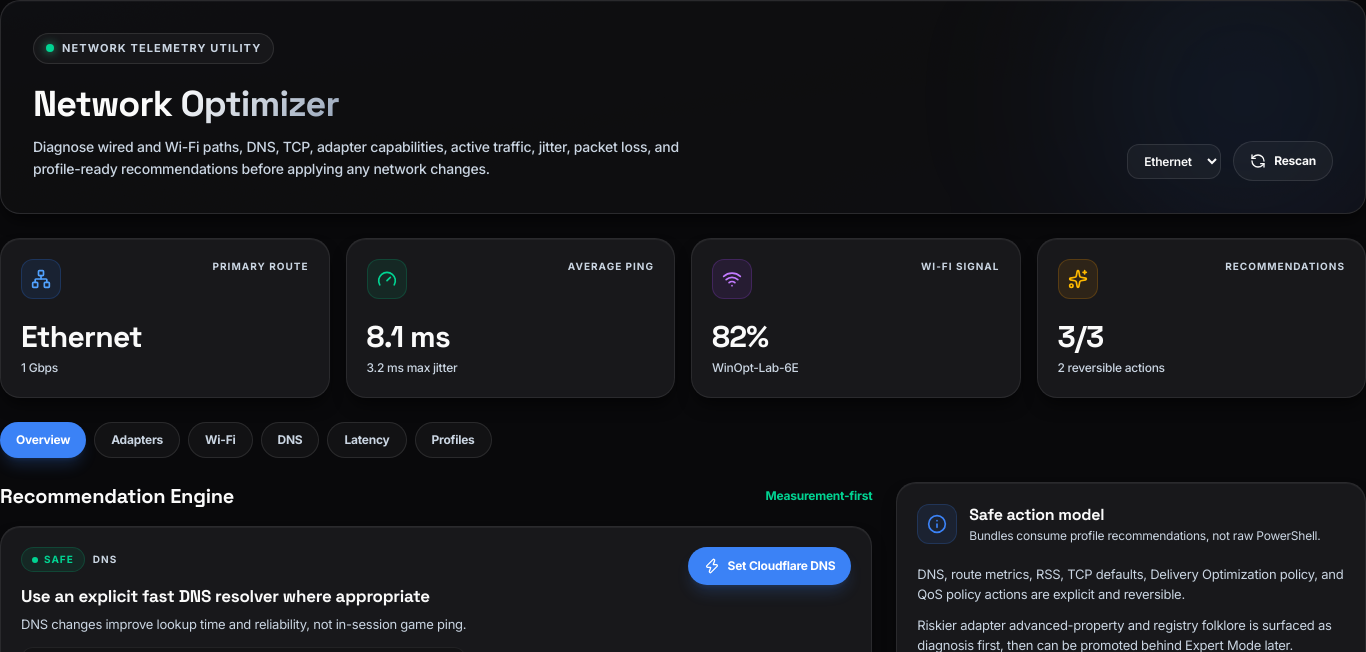
NetworkOptimizerPage › shows Wi-Fi, DNS, latency, and profile tabs
expect the heading "Network Optimizer" is shown: met, box [33,80,339,126]
What coordinates should you click on to do the following:
click the button "Wi-Fi"
I would click on:
 (220, 440)
Its box is [188,422,252,458].
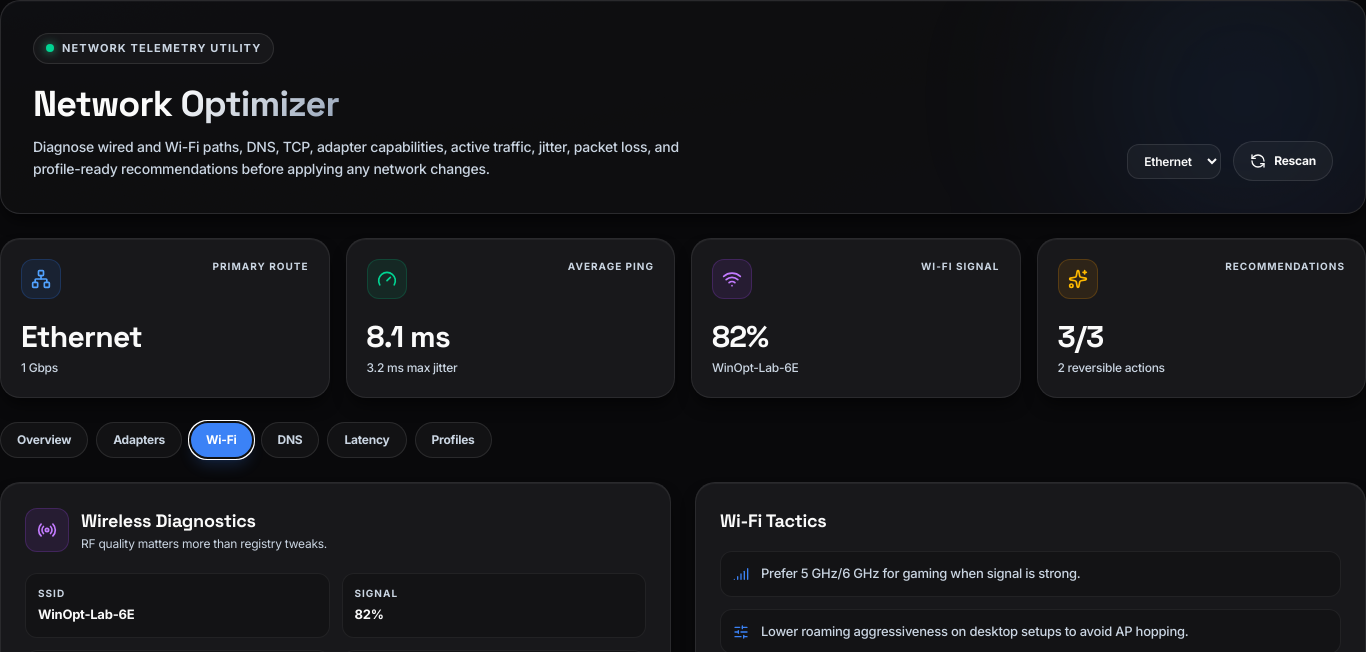
expect the text "WinOpt-Lab-6E" below "Wi-Fi signal" is shown: met, box [712,360,798,375]
expect the heading "Wireless Diagnostics" is shown: met, box [81,509,256,532]
What coordinates should you click on to do the following:
click the button "DNS"
I would click on:
 (290, 440)
Its box is [260,422,320,458].
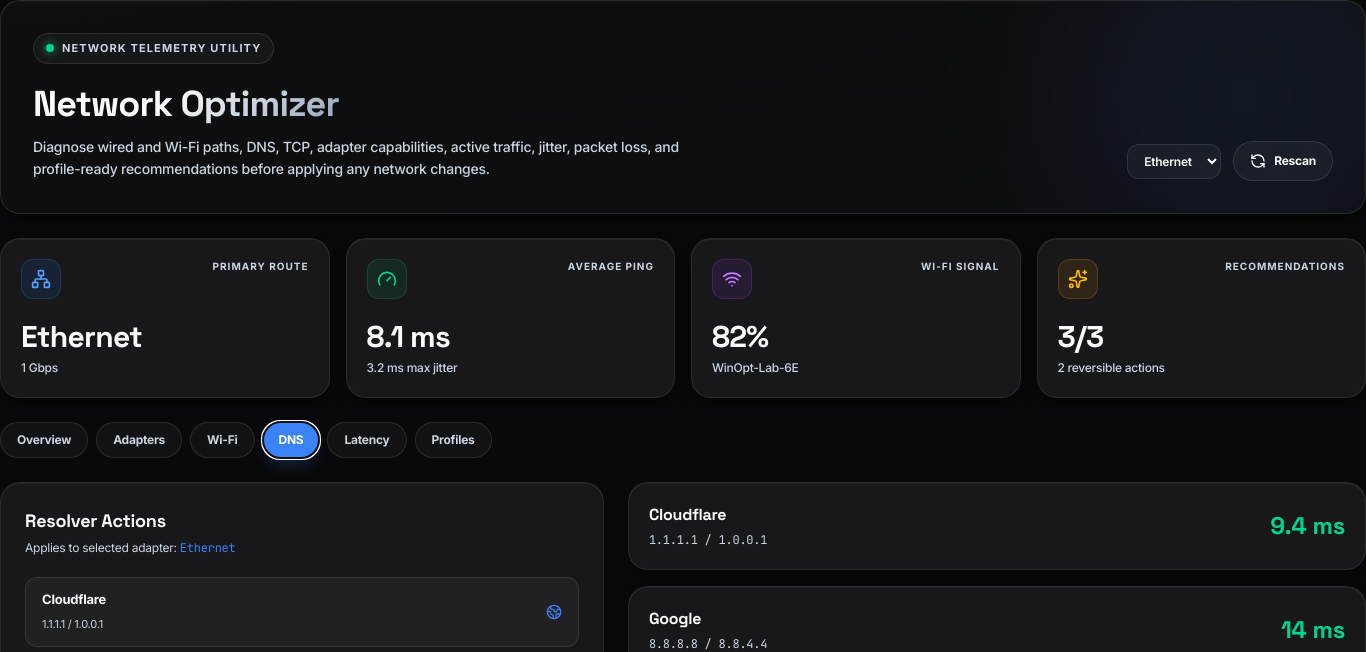
expect the heading "Resolver Actions" is shown: met, box [25,509,166,532]
expect the text "Cloudflare" is shown: met, box [42,590,106,610]
expect the text "9.4 ms" is shown: met, box [1270,510,1345,542]
What coordinates should you click on to do the following:
click the button "Latency"
I would click on:
 (367, 440)
Its box is [328,422,406,458].
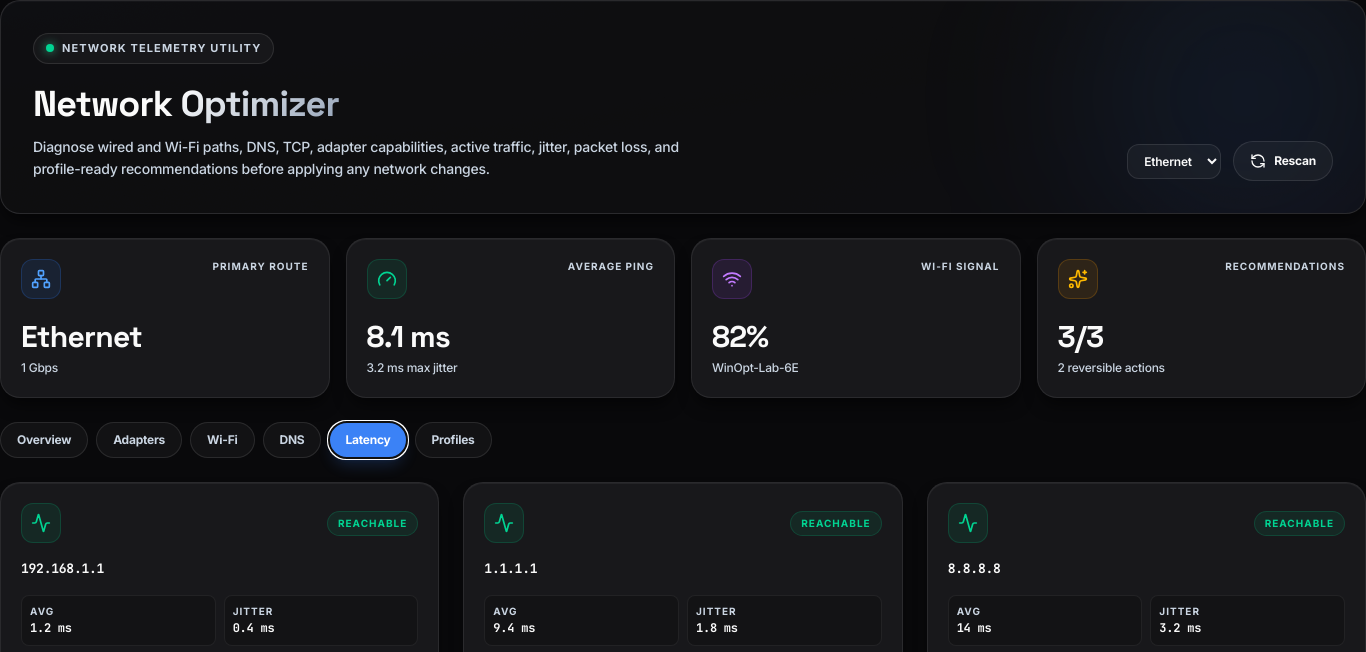
expect the heading "192.168.1.1" is shown: met, box [21,560,104,577]
What coordinates should you click on to do the following:
click the button "Profiles"
I would click on:
 (453, 440)
Its box is [414,422,492,458].
(page scrolled)
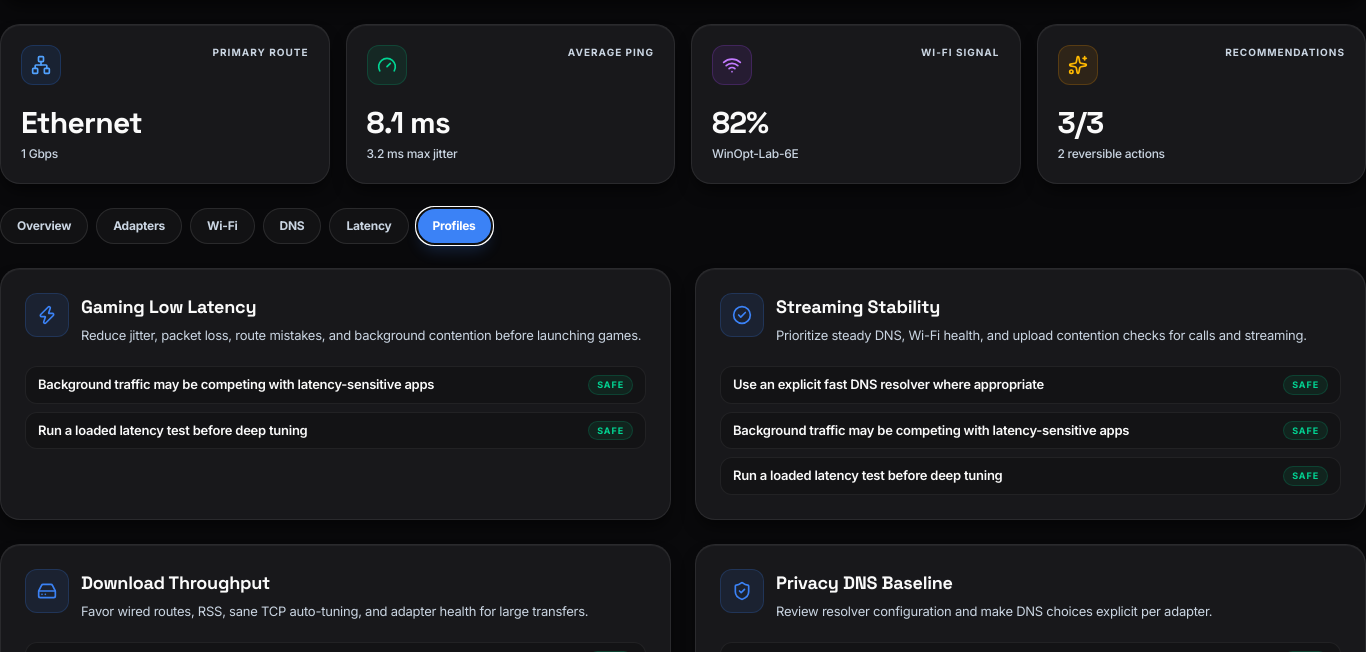
expect the heading "Gaming Low Latency" is shown: met, box [81,295,256,318]
expect the heading "Privacy DNS Baseline" is shown: met, box [776,571,953,594]
